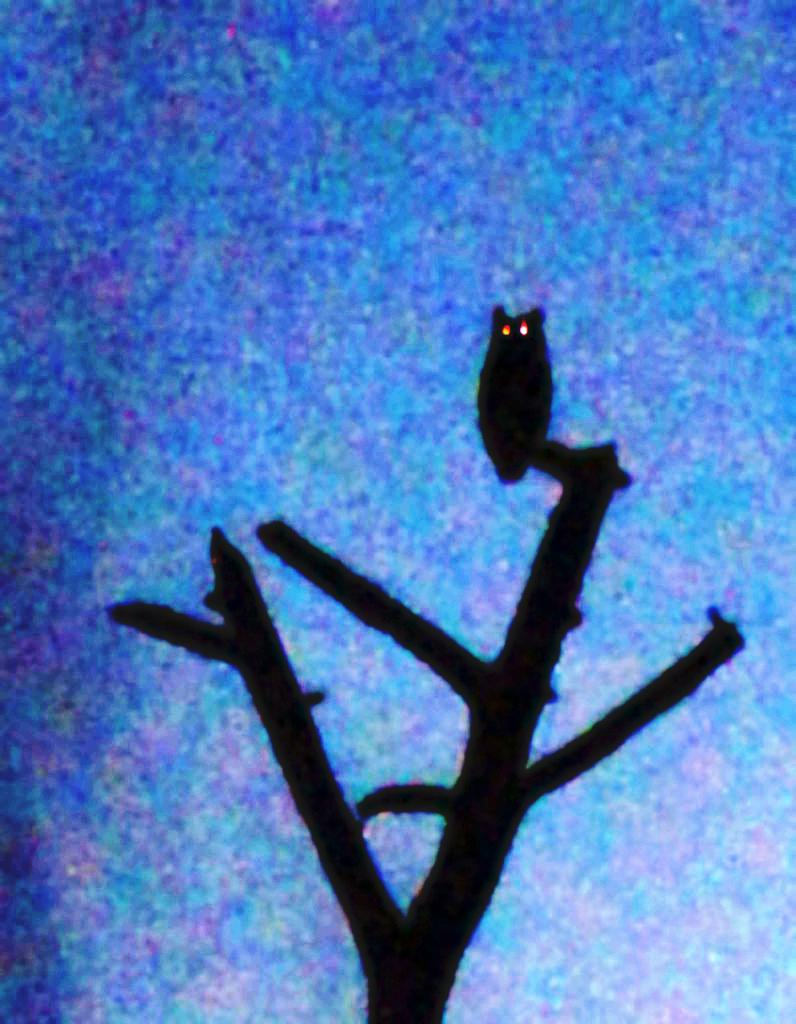Owl: (480, 306, 552, 486)
